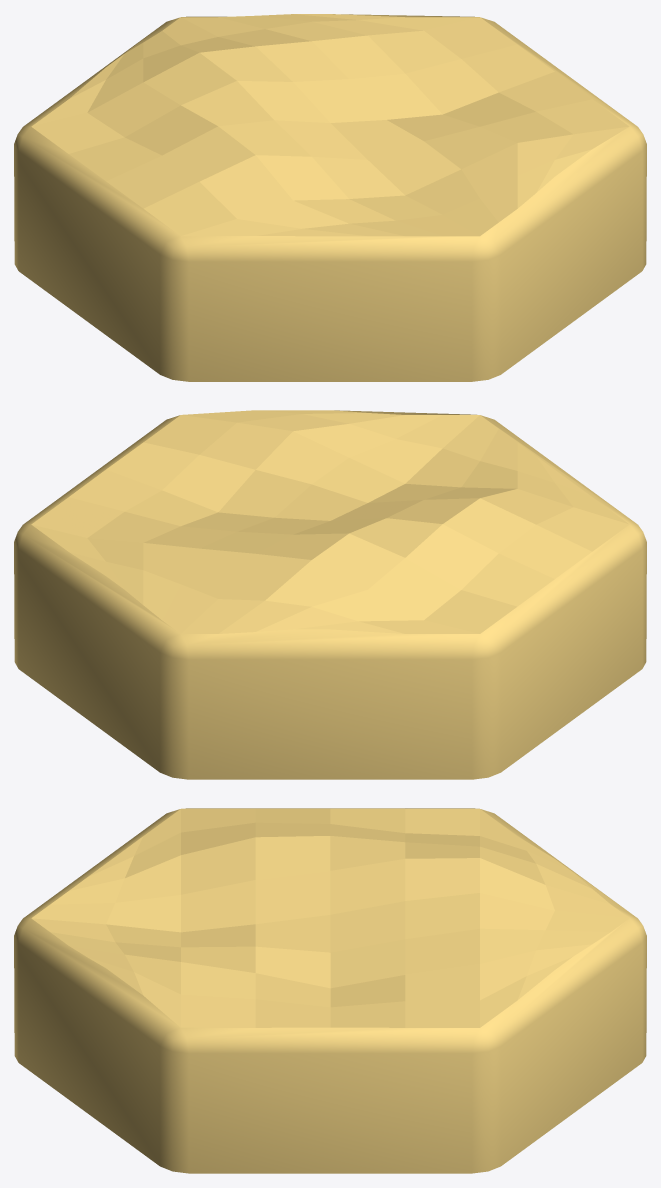
Rendered from FBX_Desert_0.fbx.
The picture shows the model from 3 angles, top to bottom: view 1: azimuth 30°, elevation 25°; view 2: azimuth 150°, elevation 25°; view 3: azimuth 270°, elevation 25°; orthographic projection.
Visible parts, largest first — view 1: desert_base_0; view 2: desert_base_0; view 3: desert_base_0.
Part boxes in pixels (left/top/right/bottom): desert_base_0: left=14, top=14, right=646, bottom=381; desert_base_0: left=14, top=410, right=646, bottom=779; desert_base_0: left=14, top=808, right=646, bottom=1173.
Bounding box in the file's own units: 173 × 58.51 × 197.
